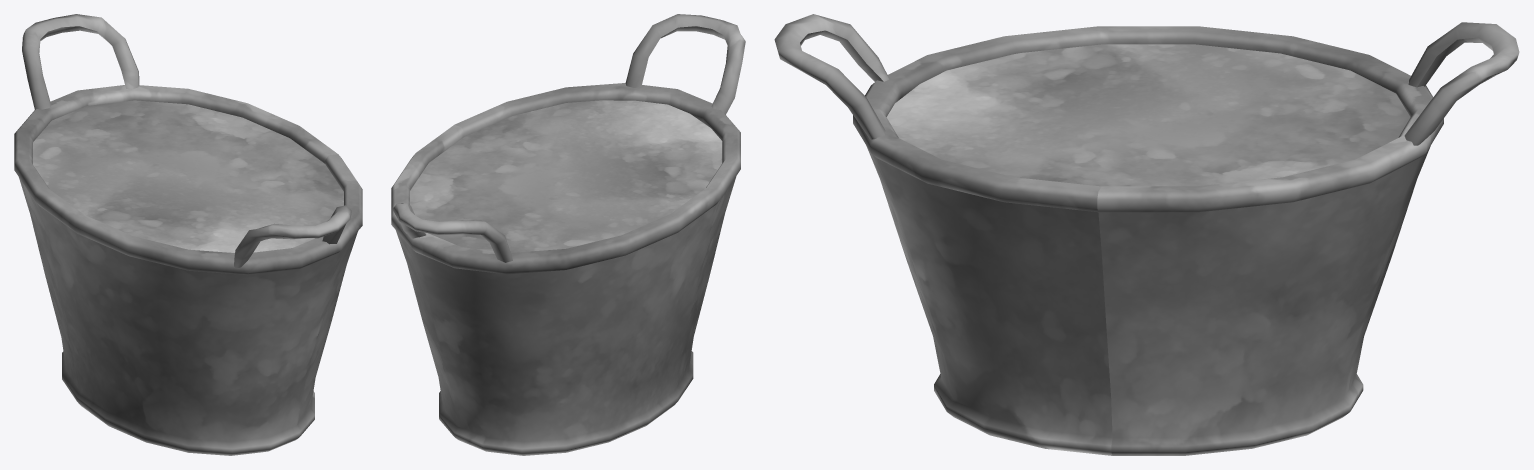
The model's file is SM_WickerBasket_02d.fbx.
The picture shows the model from 3 angles, left to right: view 1: azimuth 30°, elevation 25°; view 2: azimuth 150°, elevation 25°; view 3: azimuth 270°, elevation 25°; orthographic projection. The views are drawn at different scales.
Visible parts, largest first — view 1: SM_WickerBasket_02d_LOD0; view 2: SM_WickerBasket_02d_LOD0; view 3: SM_WickerBasket_02d_LOD0.
Part boxes in pixels (x1,y1,x2,y2): SM_WickerBasket_02d_LOD0: [14, 14, 362, 455]; SM_WickerBasket_02d_LOD0: [391, 14, 745, 455]; SM_WickerBasket_02d_LOD0: [774, 14, 1519, 455].
Bounding box in the file's own units: 42.38 × 78.81 × 41.37.
